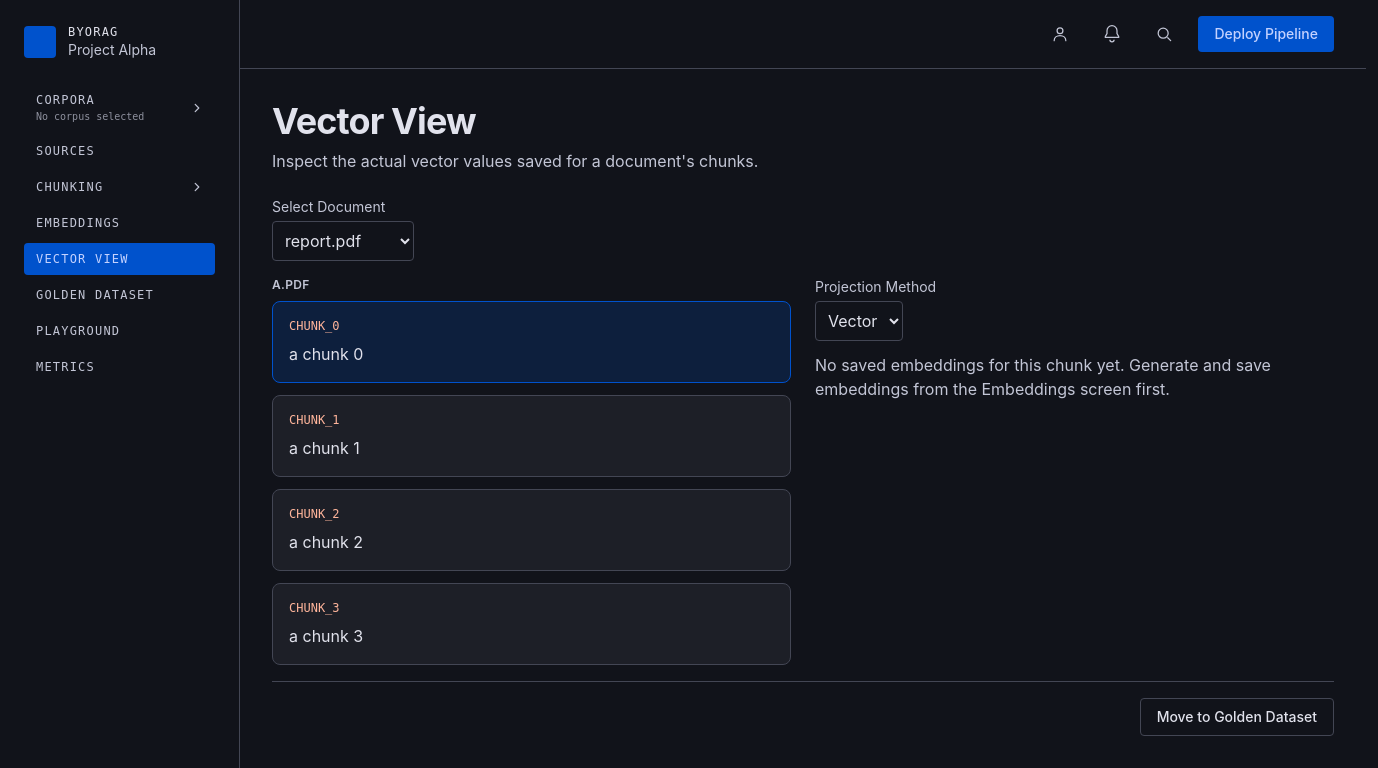
VectorViewScreen — UMAP/PCA embedding projection (021-sources-chunking-embeddings-refresh US4) › reports excluded documents (zero embedded chunks) in Entire Corpus scope
Select "PCA" in the dropdown labelled "Projection Method" at (859, 321), box left=815, top=301, right=903, bottom=341
(page scrolled)
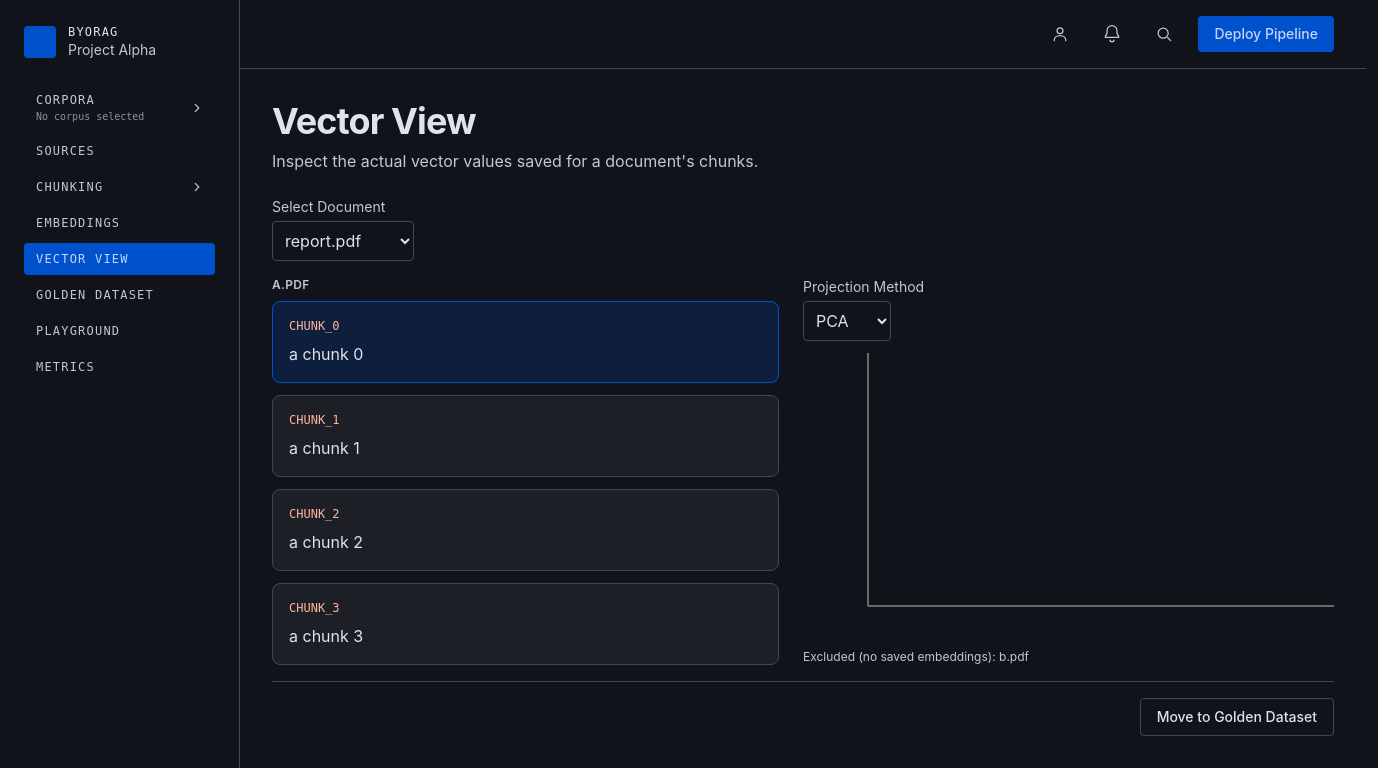
Expected: the text with test id "projection-excluded-documents" shows "b.pdf", left=999, top=649, right=1029, bottom=664
